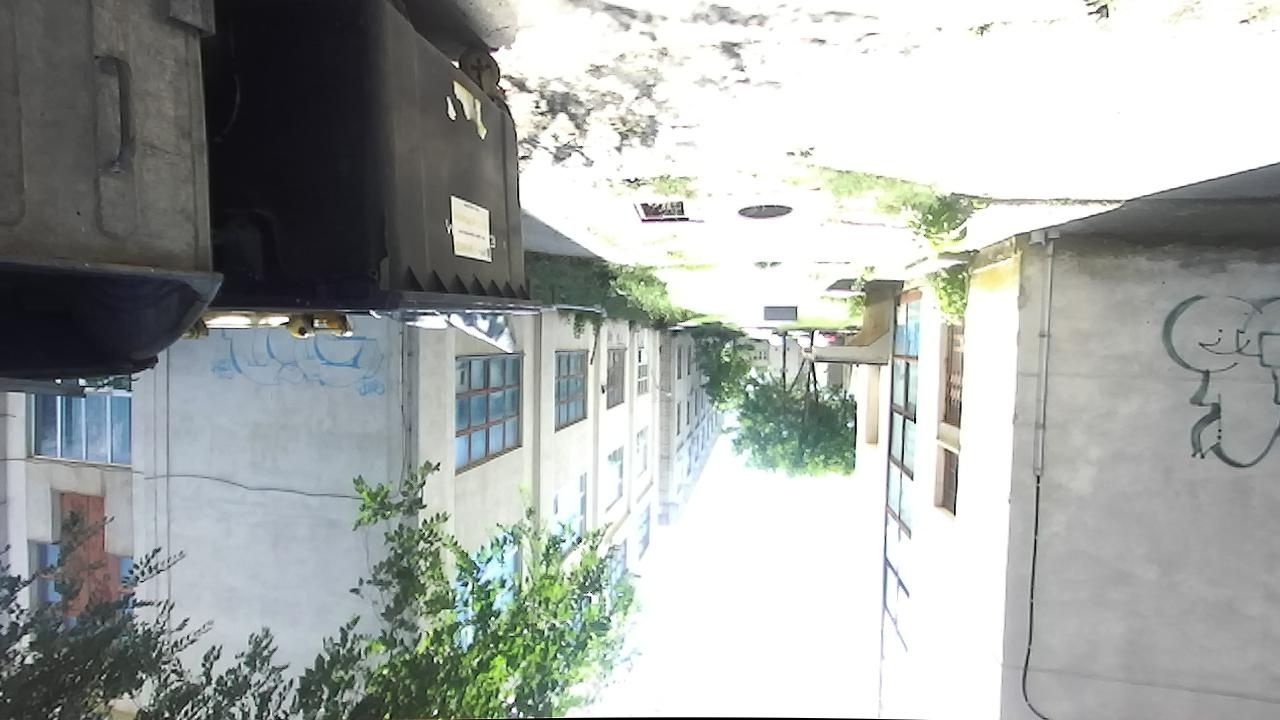drain: (630, 199, 691, 227), (732, 201, 795, 225)
